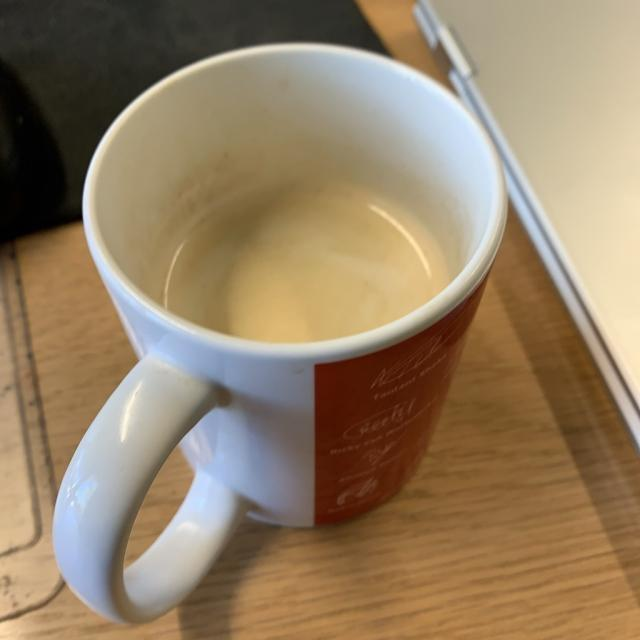coffee: (153, 180, 451, 339)
